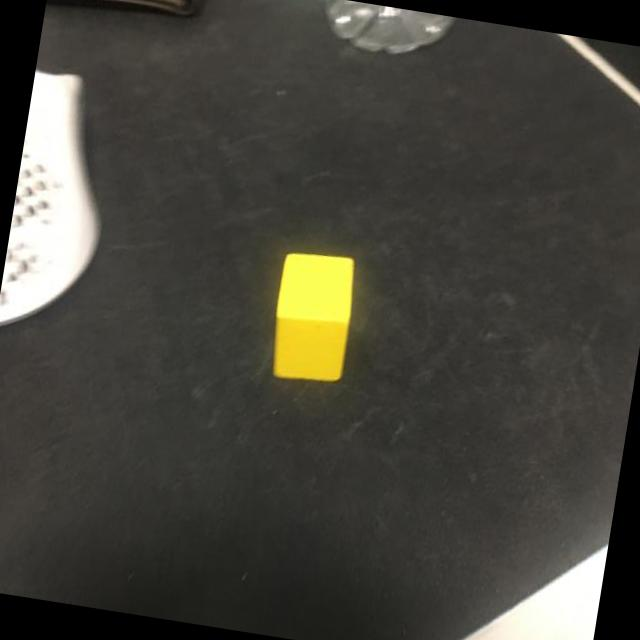yellow: (266, 249, 362, 386)
